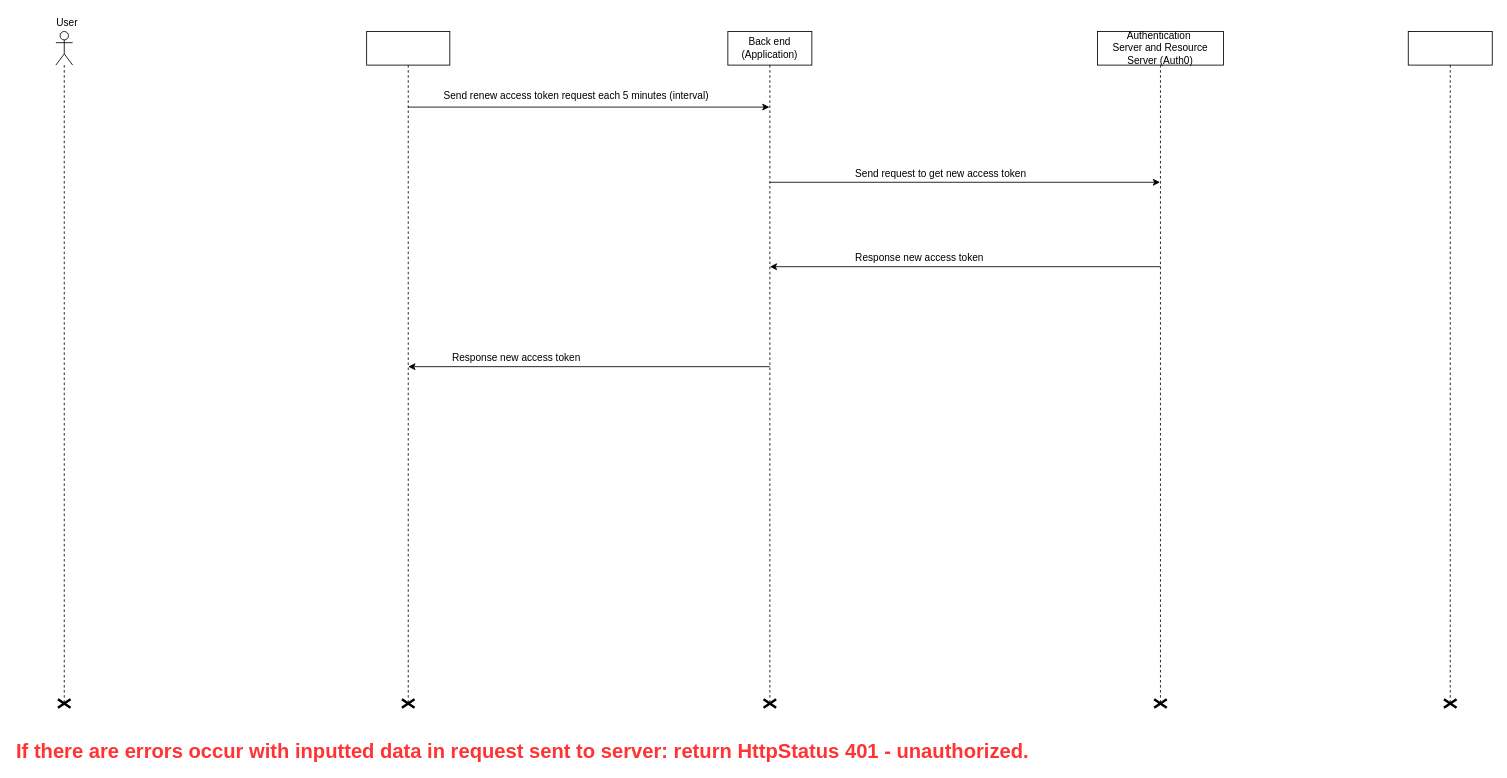
This 1507x778 diagram has some shape labels left out. The box of each missing label's shape, as (x1, y1, x2, y2) in pixels:
Application Database: (1407, 31, 1492, 704)
Front end (Browser): (366, 31, 450, 704)
